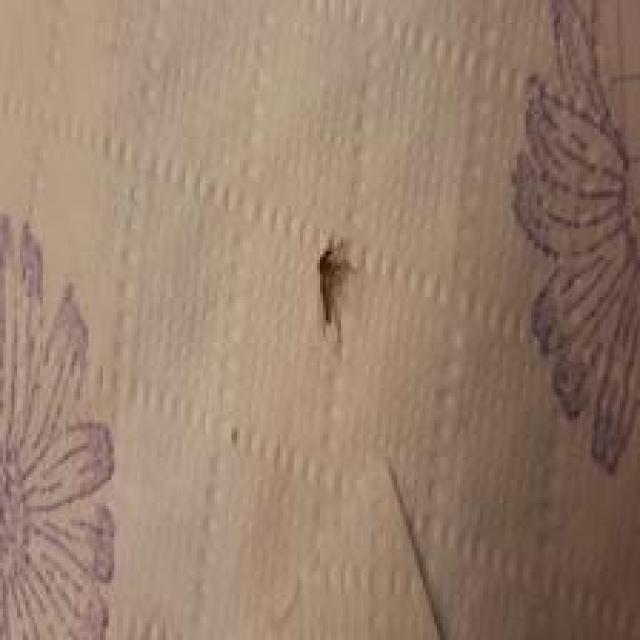Culex: (508, 0, 640, 474)
